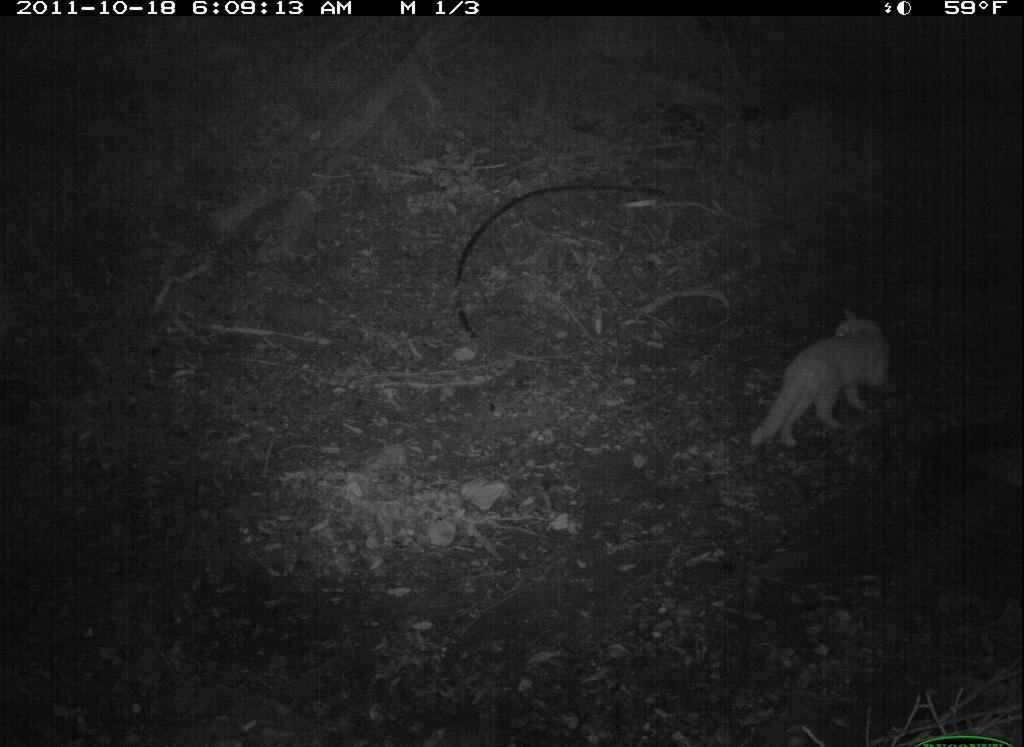cat: (738, 295, 903, 466)
